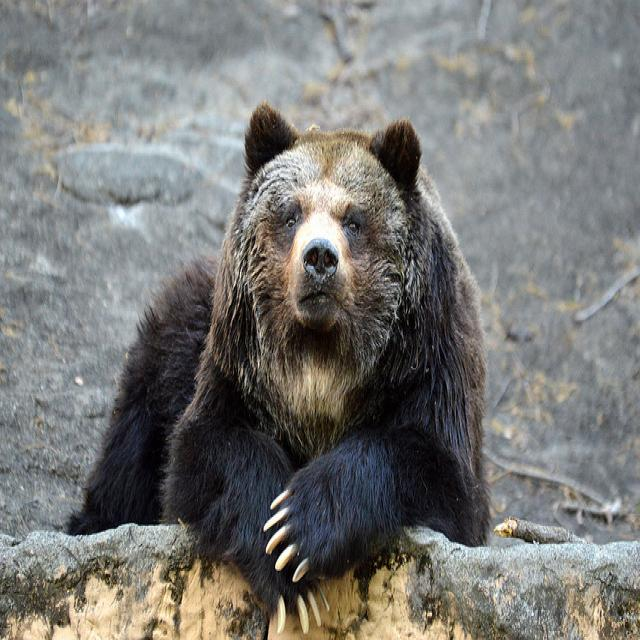Bear: (53, 100, 501, 582)
